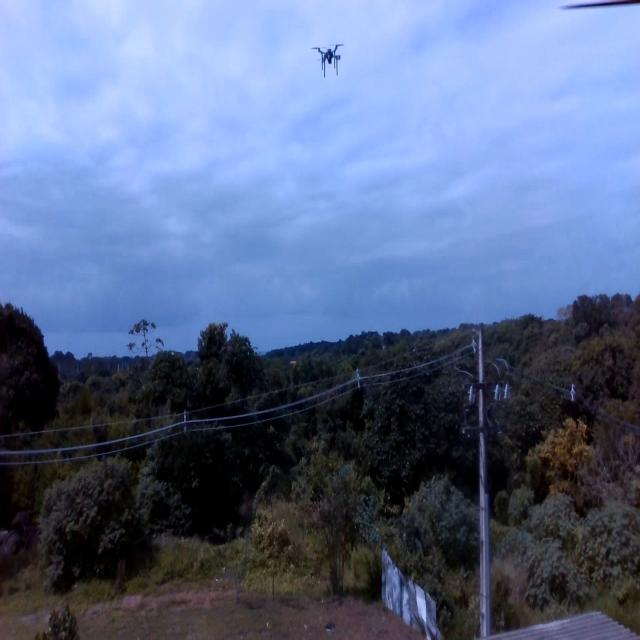-uav-: (307, 34, 348, 83)
